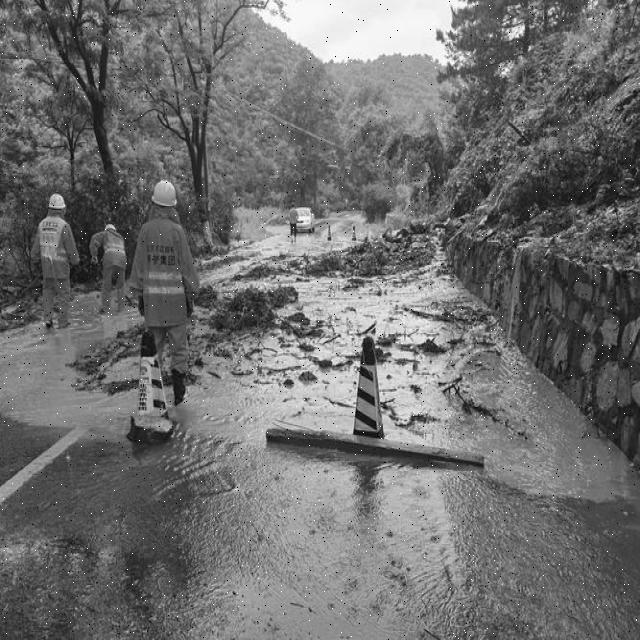rescuer: (135, 175, 199, 401), (31, 188, 80, 338), (95, 217, 130, 322)
